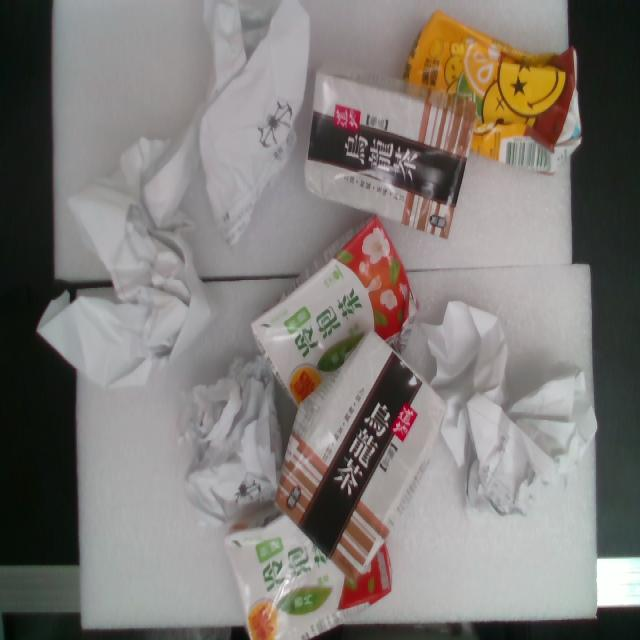juicebox: (249, 310, 482, 603), (216, 198, 458, 430), (285, 56, 488, 254)
paper: (71, 0, 341, 268), (380, 272, 616, 551), (126, 329, 327, 566)
